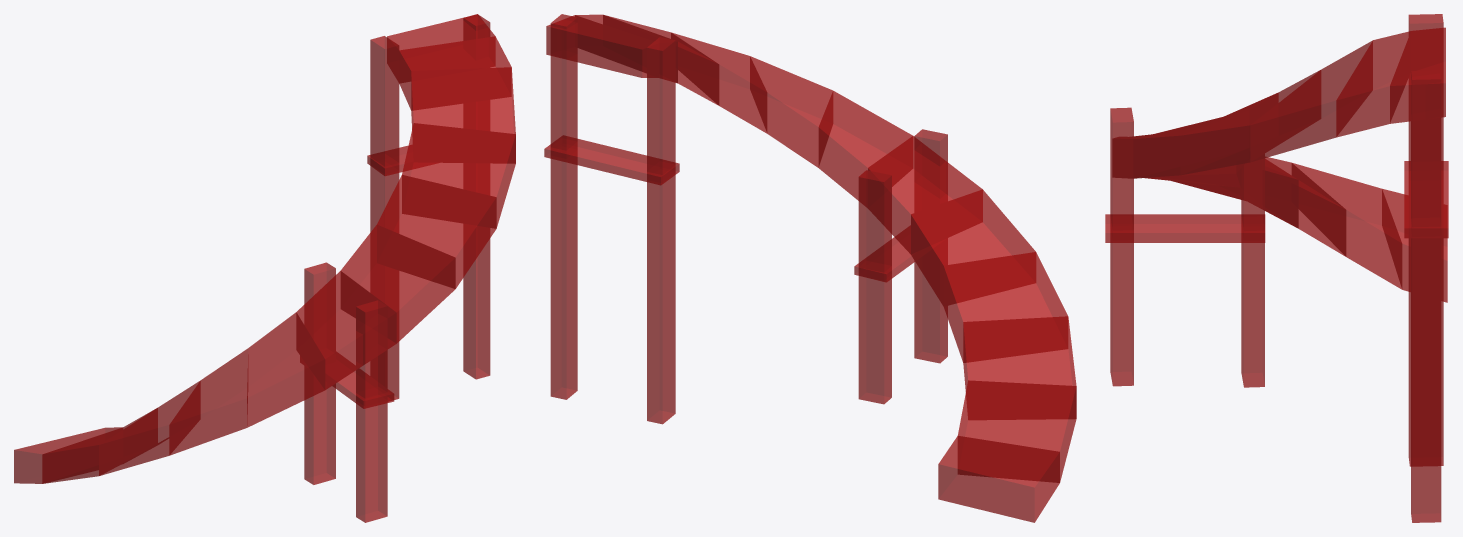
File: SM_Bld_Stairs_Round_M_Wood__01_Collision.fbx
3 views of the same model, side by side, from view 1: azimuth 30°, elevation 25°; view 2: azimuth 150°, elevation 25°; view 3: azimuth 270°, elevation 25° (orthographic). The views are drawn at different scales.
Visible parts, largest first — view 1: SM_Bld_Stairs_Round_M_Wood__01_Collision; view 2: SM_Bld_Stairs_Round_M_Wood__01_Collision; view 3: SM_Bld_Stairs_Round_M_Wood__01_Collision.
Part boxes in pixels (box(x1,y1,x2,y2)): SM_Bld_Stairs_Round_M_Wood__01_Collision: box(14, 14, 515, 522); SM_Bld_Stairs_Round_M_Wood__01_Collision: box(544, 14, 1076, 522); SM_Bld_Stairs_Round_M_Wood__01_Collision: box(1105, 14, 1448, 522).
Size of the model in its own units: 724 by 535 by 370.
